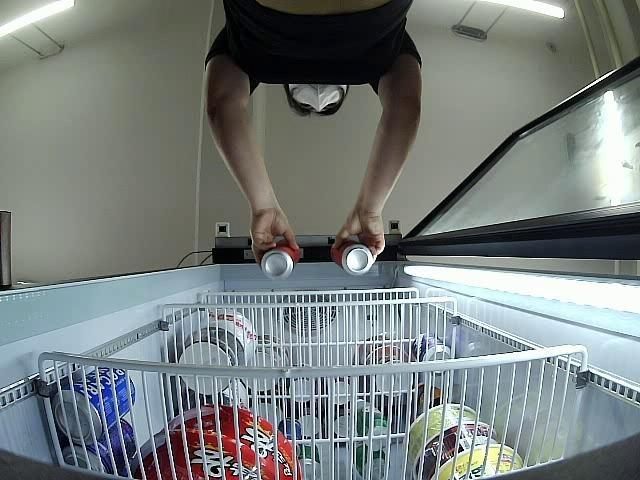11_cocaColaZero: (260, 239, 299, 282), (332, 238, 373, 276)
